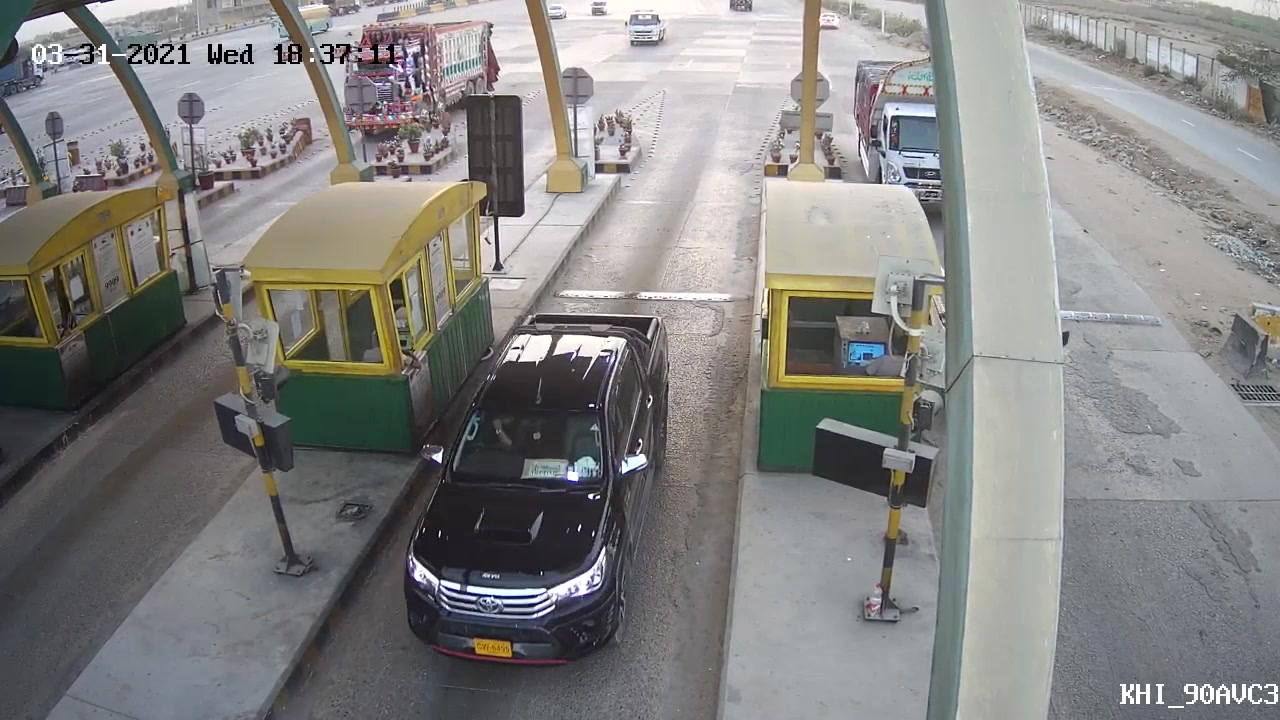F1: (391, 304, 679, 673)
